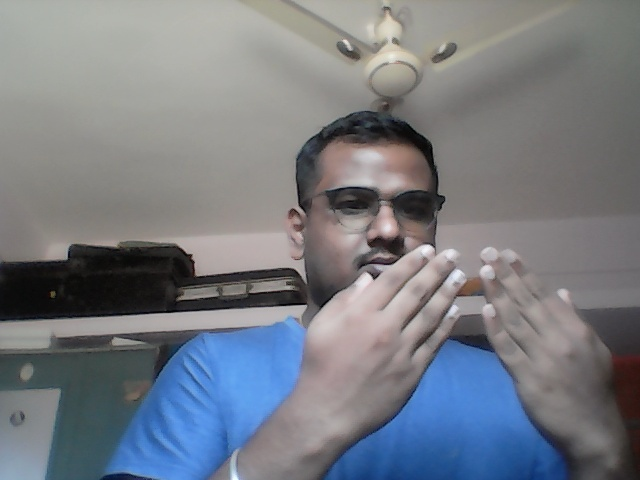Thank You: (302, 241, 618, 431)
